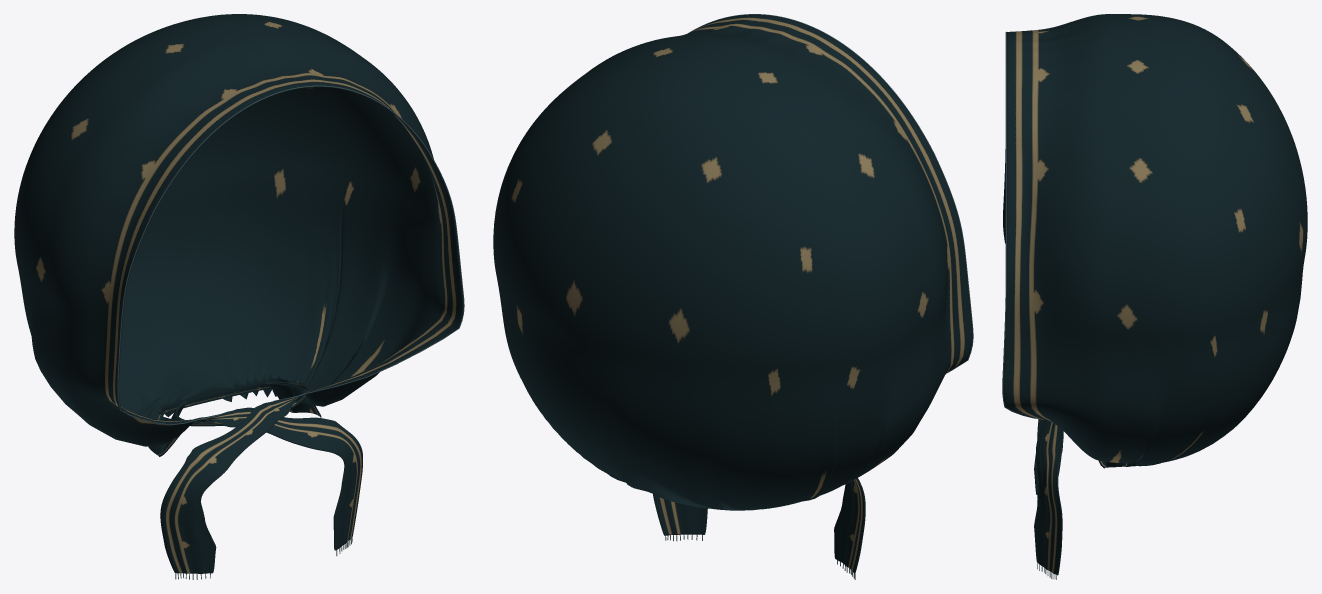
The model's file is Masculine-buzz-pashmina251-headgear.glb.
3 renders of one model, left to right at view 1: azimuth 30°, elevation 25°; view 2: azimuth 150°, elevation 25°; view 3: azimuth 270°, elevation 25°, orthographic. The views are drawn at different scales.
Visible parts, largest first — view 1: 226 headgear / Headwear / continuous woven pashmina239.002, 226 headgear / Headwear / face edge239.002; view 2: 226 headgear / Headwear / continuous woven pashmina239.002, 226 headgear / Headwear / face edge239.002; view 3: 226 headgear / Headwear / continuous woven pashmina239.002, 226 headgear / Headwear / face edge239.002.
Boxes of the visible parts, bbox=[...] form: 226 headgear / Headwear / continuous woven pashmina239.002: bbox=[14, 14, 463, 573]; 226 headgear / Headwear / face edge239.002: bbox=[117, 85, 464, 425]; 226 headgear / Headwear / continuous woven pashmina239.002: bbox=[493, 14, 972, 573]; 226 headgear / Headwear / face edge239.002: bbox=[688, 14, 973, 372]; 226 headgear / Headwear / continuous woven pashmina239.002: bbox=[1003, 14, 1307, 575]; 226 headgear / Headwear / face edge239.002: bbox=[1002, 31, 1037, 418].
Bounding box in the file's own units: 1.07 × 1.37 × 0.7558.
Materials: 3 (1 with a texture image).
